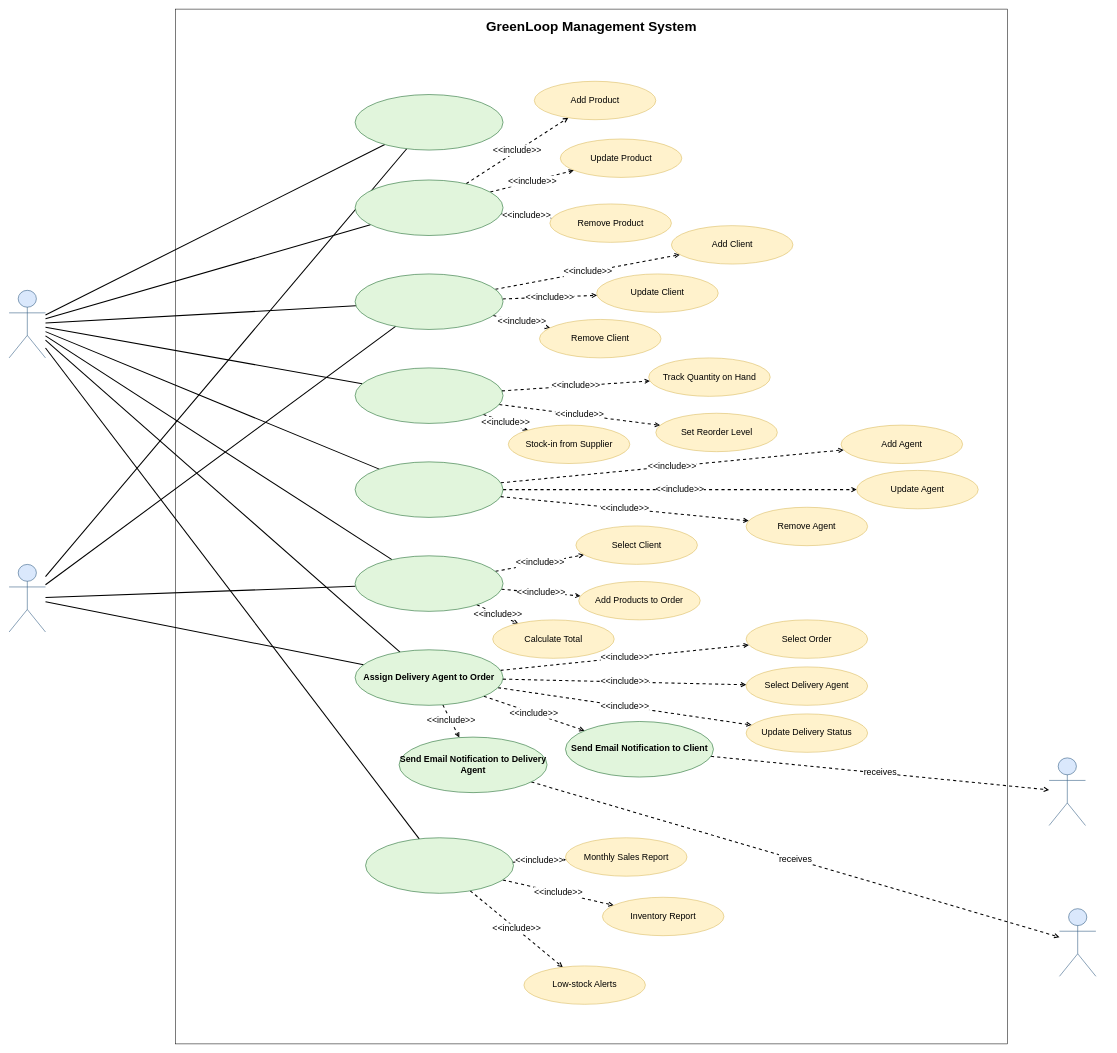
This 1117x1053 diagram has some shape labels left out. The shapes that lost their labels are listed below. From the top down, each one's centre as x and y in pixels, then its label:
(429,122): Login
(429,207): Manage Product Catalogue
(429,301): Manage Clients
(27,324): Admin
(429,395): Manage Stock / Inventory
(429,489): Manage Delivery Agents
(27,598): Staff
(429,583): Process Client Orders
(1067,791): Client
(439,865): Generate Monthly Sales & Inventory Reports
(1077,942): Delivery Agent
